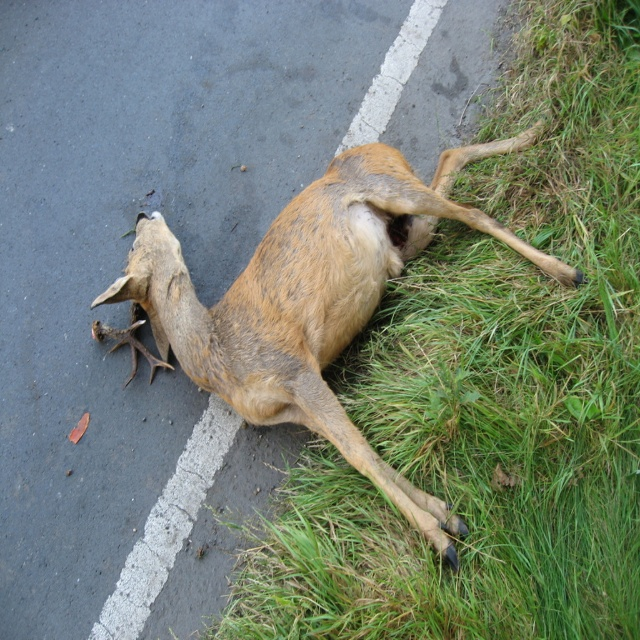Goat: (92, 114, 585, 572)
